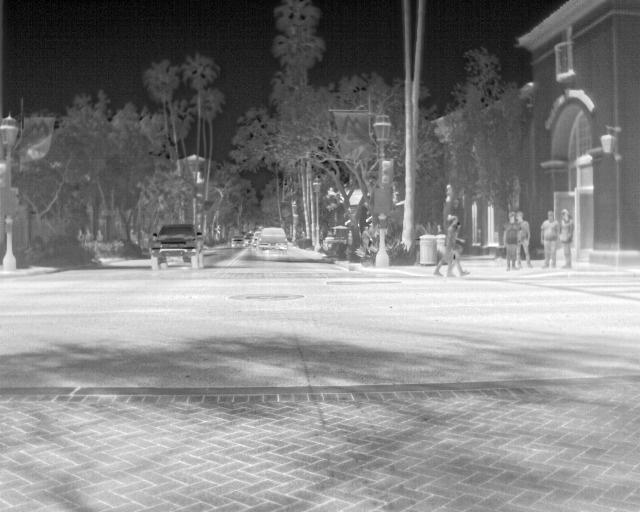bicycle: (148, 224, 204, 272), (257, 226, 291, 258), (249, 227, 262, 254), (230, 235, 246, 248)
empty: (433, 211, 470, 275), (516, 209, 535, 268), (541, 211, 561, 265), (560, 204, 576, 268), (506, 208, 521, 270), (452, 221, 468, 257), (360, 224, 375, 251), (83, 227, 95, 243), (75, 227, 87, 242), (94, 228, 106, 242)
